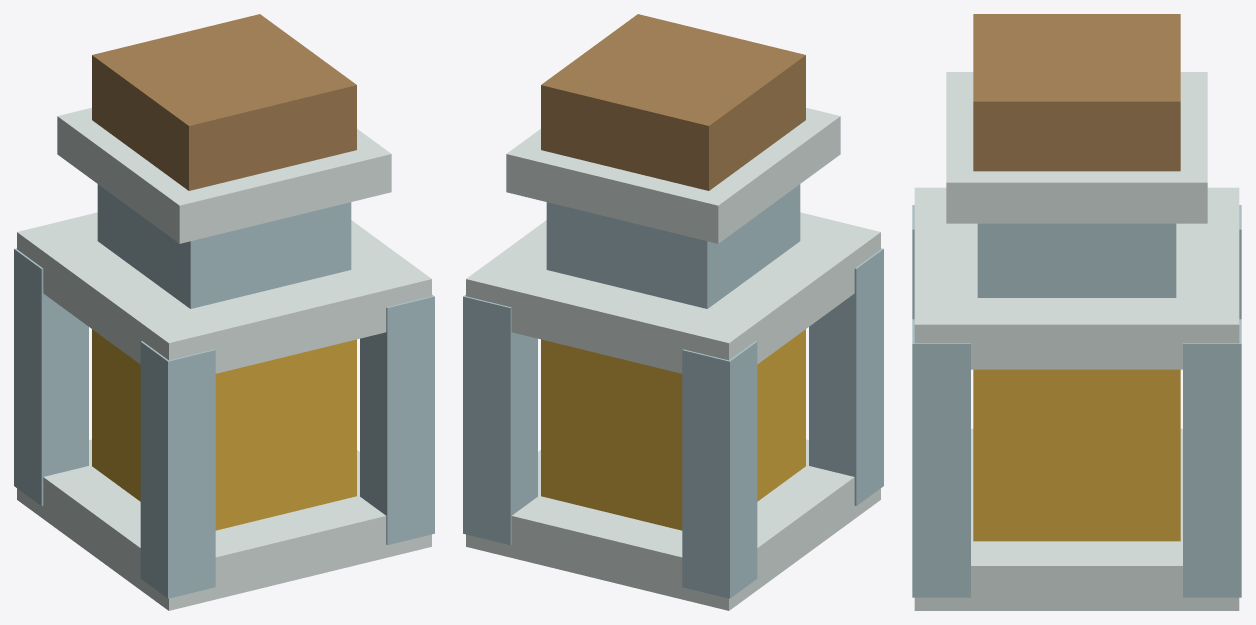
The model's file is potion_amber_prop.glb.
The picture shows the model from 3 angles, left to right: view 1: azimuth 30°, elevation 25°; view 2: azimuth 150°, elevation 25°; view 3: azimuth 270°, elevation 25°; orthographic projection. The views are drawn at different scales.
Parts seen in each view (by area): view 1: potion_amber_prop; view 2: potion_amber_prop; view 3: potion_amber_prop.
Part boxes in pixels (x1,y1,x2,y2): potion_amber_prop: (14, 14, 434, 610); potion_amber_prop: (463, 14, 883, 610); potion_amber_prop: (912, 14, 1241, 610).
Size of the model in its own units: 0.365 by 0.5925 by 0.365.
